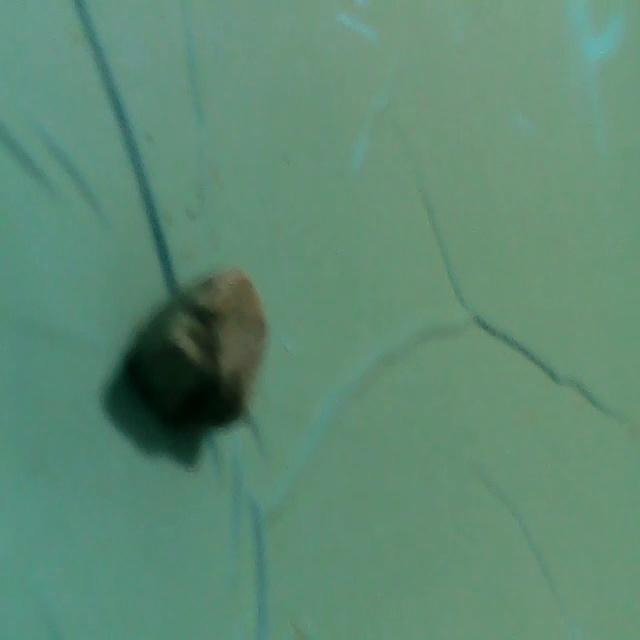rock: (115, 266, 290, 440)
